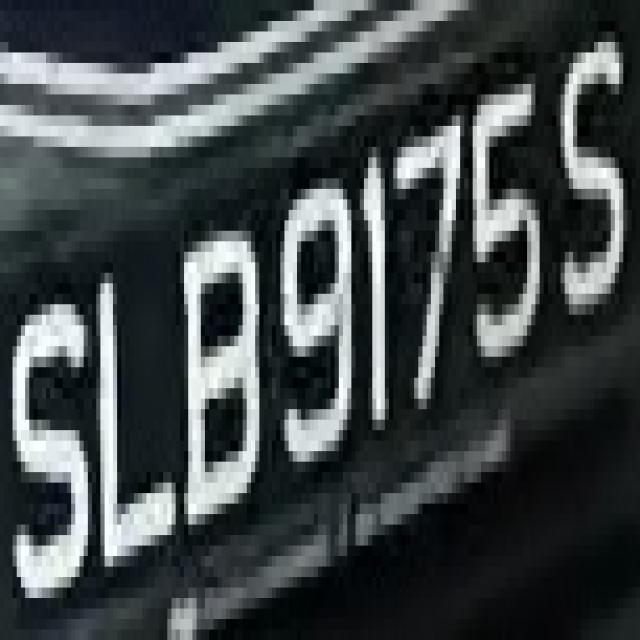1: (351, 105, 406, 451)
5: (460, 42, 540, 399)
7: (385, 105, 468, 430)
9: (276, 178, 368, 493)
B: (188, 189, 260, 524)
L: (88, 242, 188, 608)
S: (8, 252, 96, 608), (548, 11, 640, 346)
